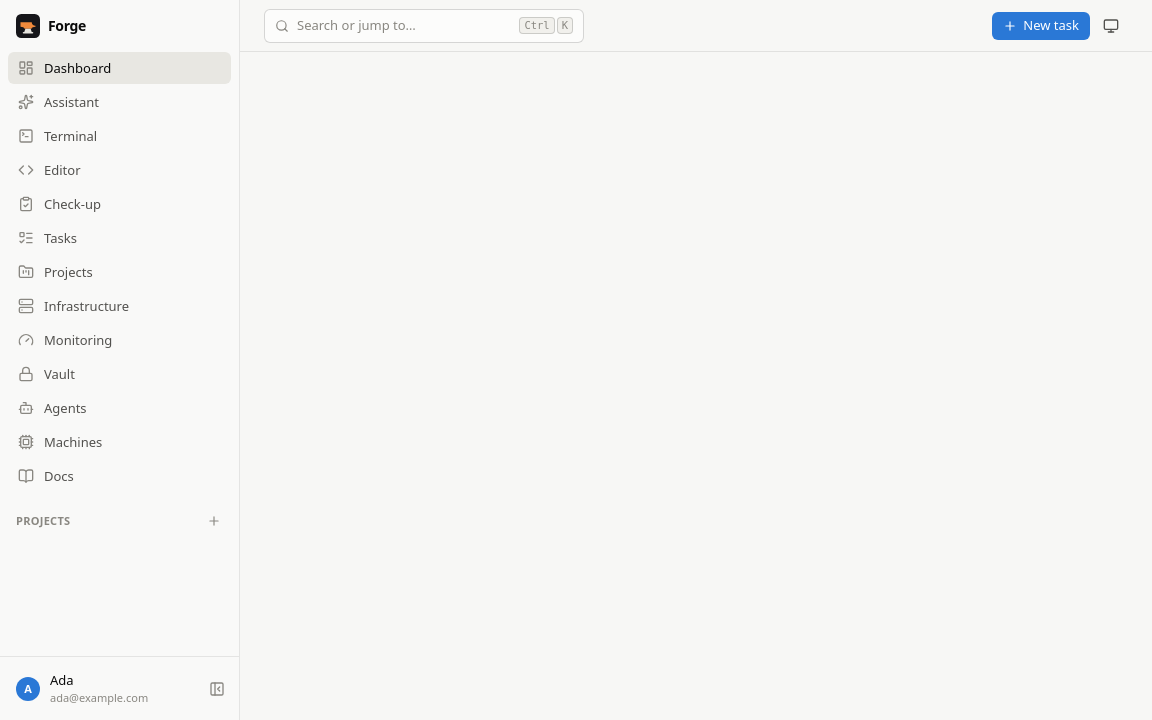
Test: AppShell sidebar › opens the account menu upwards with the user, settings, theme and sign out
Click the button with aria-label "Account" at (104, 689), box top-left (8, 665), bottom-right (199, 712)
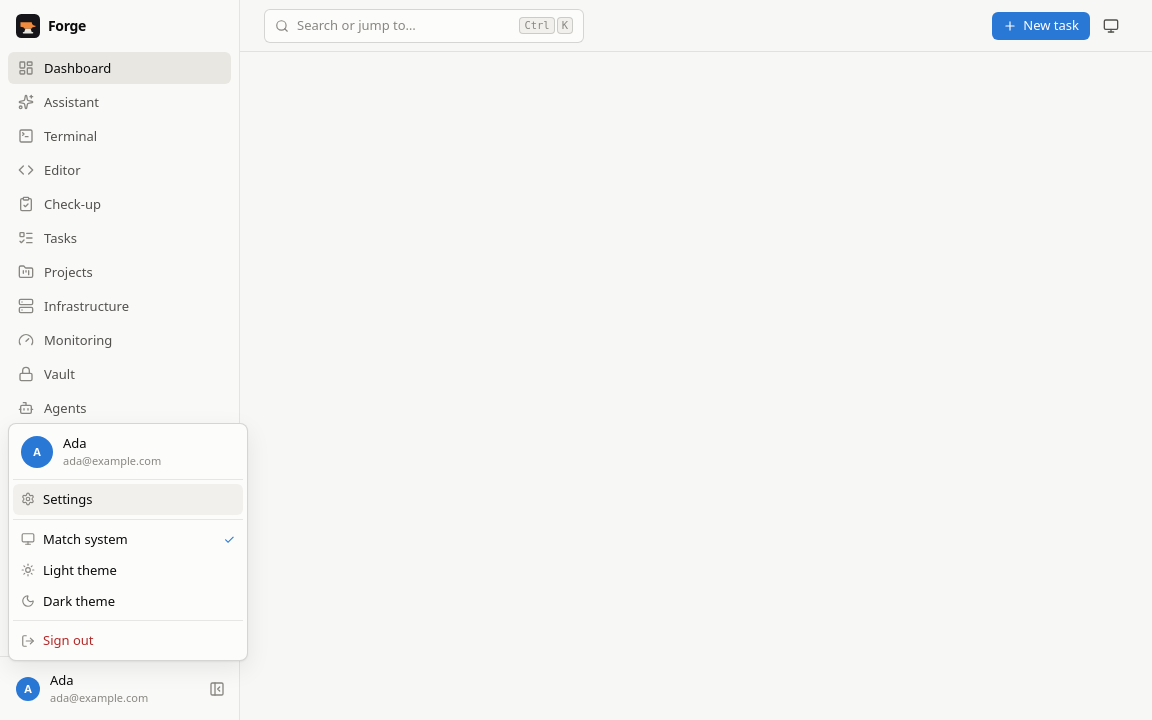
Check: the 1st text "ada@example.com" is shown, box top-left (63, 453), bottom-right (161, 468)
Check: the menu item "Settings" is shown, box top-left (13, 484), bottom-right (243, 515)
Check: the menu item "Sign out" is shown, box top-left (13, 625), bottom-right (243, 656)
